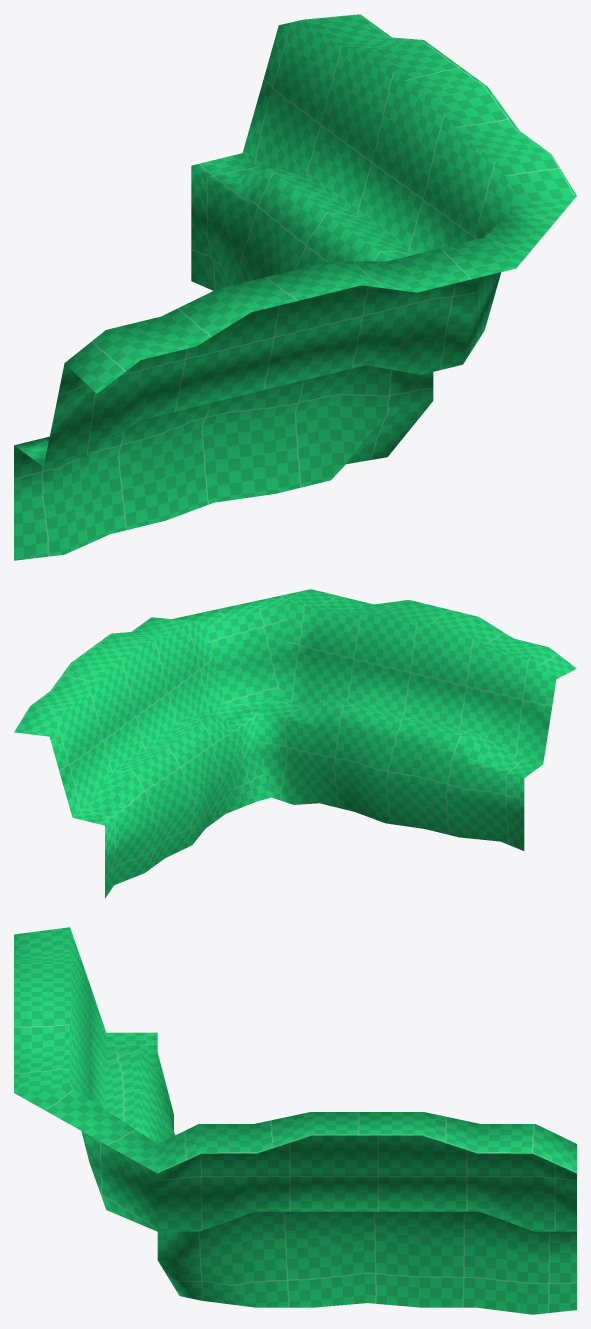
Rendered from SM_mountain_connect.fbx.
The picture shows the model from 3 angles, top to bottom: view 1: azimuth 30°, elevation 25°; view 2: azimuth 150°, elevation 25°; view 3: azimuth 270°, elevation 25°; orthographic projection. The views are drawn at different scales.
Visible parts, largest first — view 1: Cube.049; view 2: Cube.049; view 3: Cube.049.
Part boxes in pixels (x1,y1,x2,y2): Cube.049: (14, 14, 576, 560); Cube.049: (14, 589, 576, 898); Cube.049: (14, 927, 576, 1314).
Size of the model in its own units: 5100 by 2350 by 5100.
